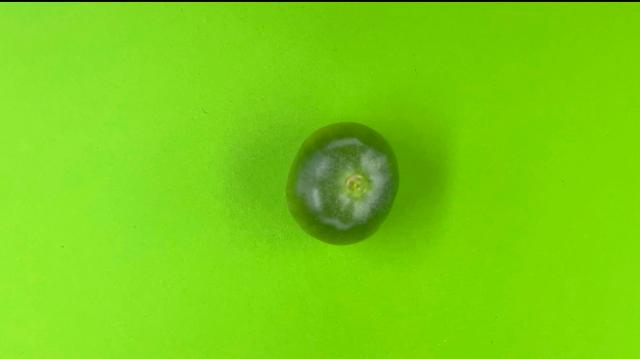Fruit Maturation: (284, 121, 401, 246)
